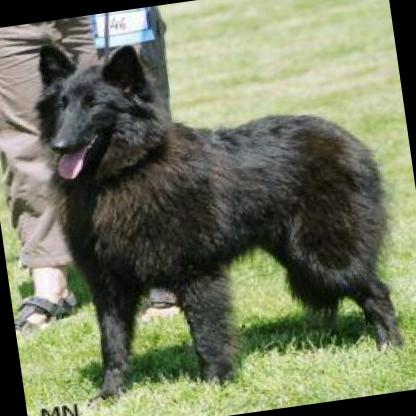groenendael: (20, 0, 407, 405)
